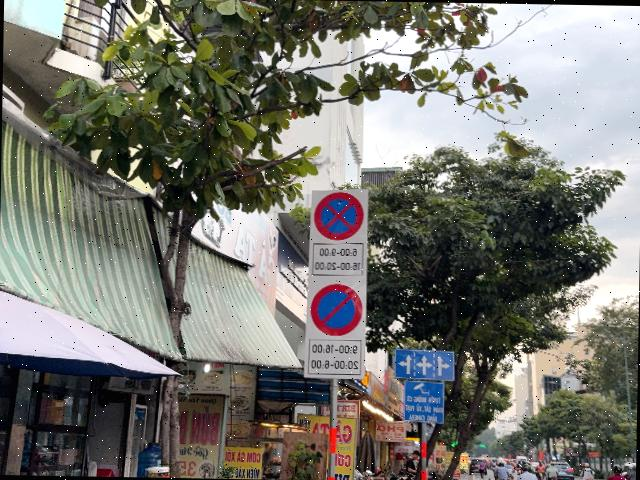cam-do-xe: (310, 283, 362, 336)
cam-dung-va-do-xe: (314, 191, 364, 241)
